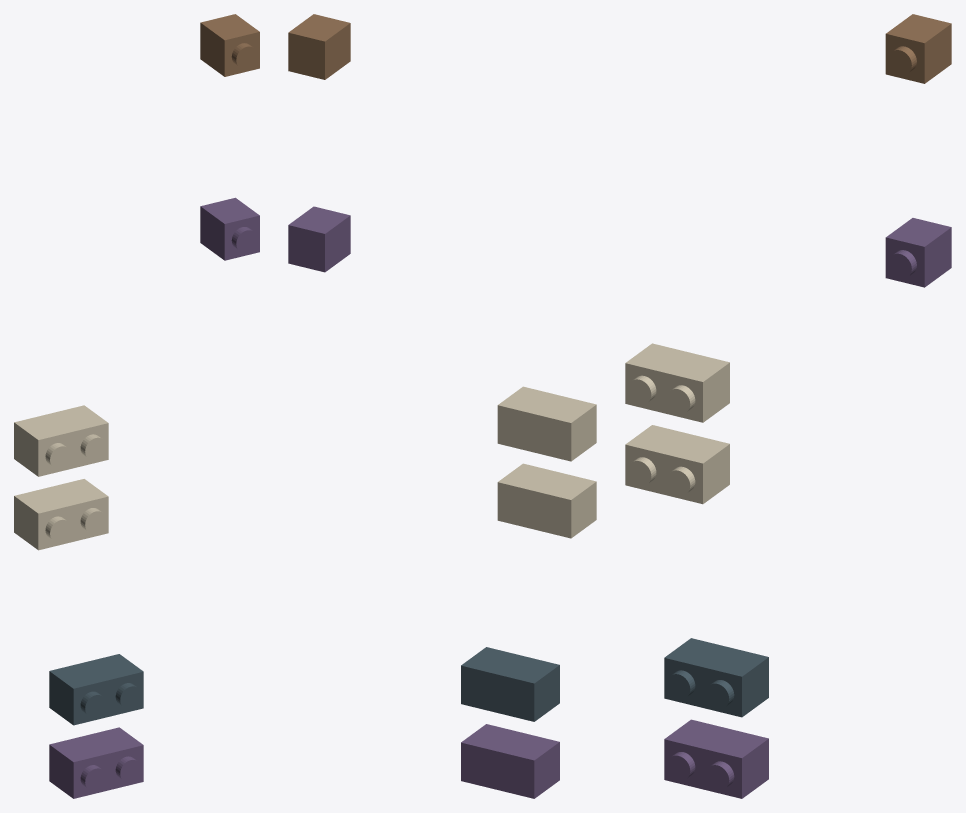
File: current.glb
3 views of the same model, side by side, from view 1: azimuth 30°, elevation 25°; view 2: azimuth 150°, elevation 25°; view 3: azimuth 330°, elevation 25° (orthographic). The views are drawn at different scales.
Visible parts, largest first — view 1: world; view 2: world; view 3: world.
Part boxes in pixels (x1,y1,x2,y2): world: (14, 14, 259, 798); world: (288, 14, 596, 798); world: (625, 14, 951, 798).
Size of the model in its own units: 56 by 152 by 21.
